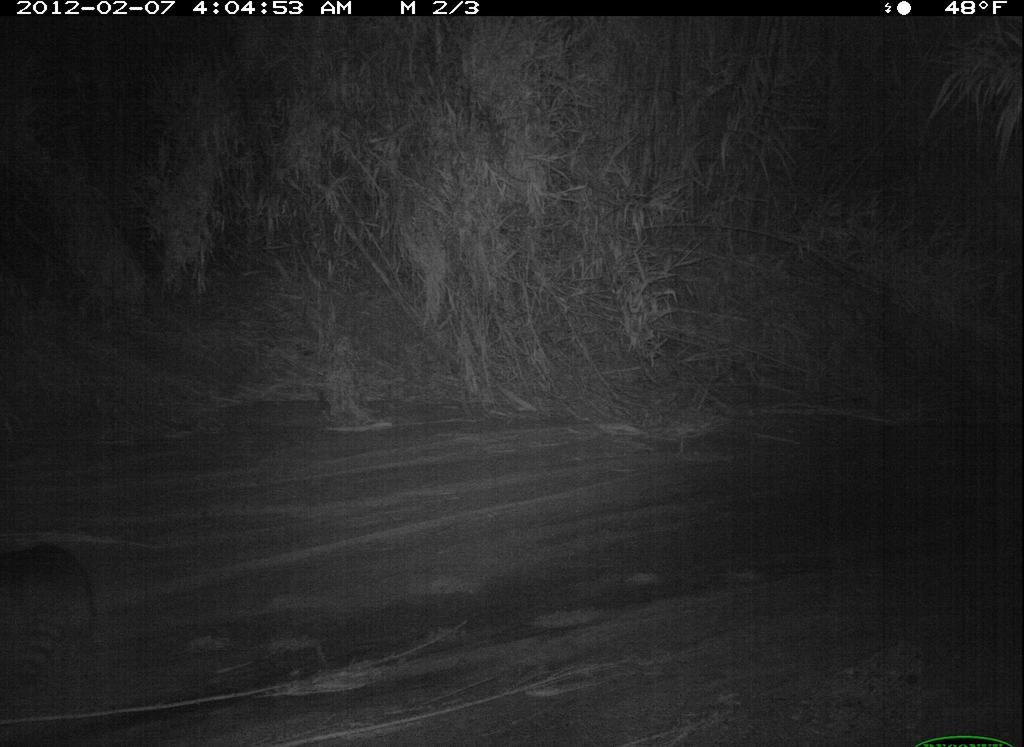raccoon: (2, 518, 112, 697)
